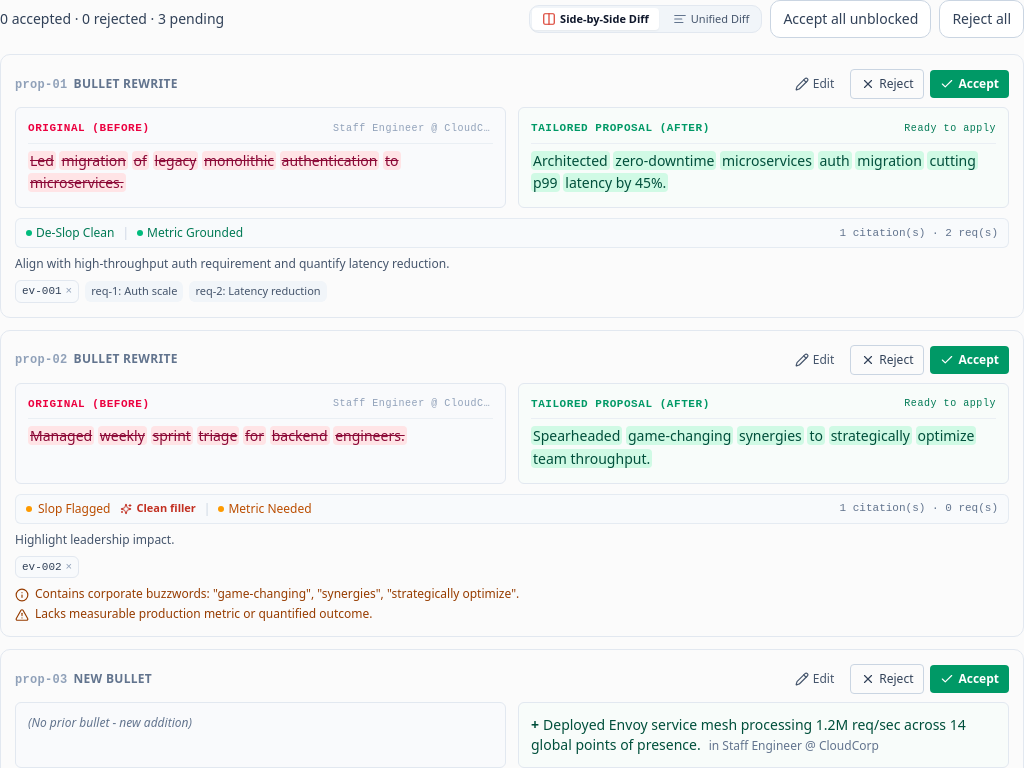
Test: Two-Pane Side-by-Side Tailoring Diff Inspector (Task #14) › switches between Side-by-Side Diff and Unified Diff modes
expect the element with test id "side-by-side-diff-prop-01" is shown: met, box [15, 107, 1009, 208]
Click the tab "Unified Diff" at (711, 19), box [663, 8, 759, 30]
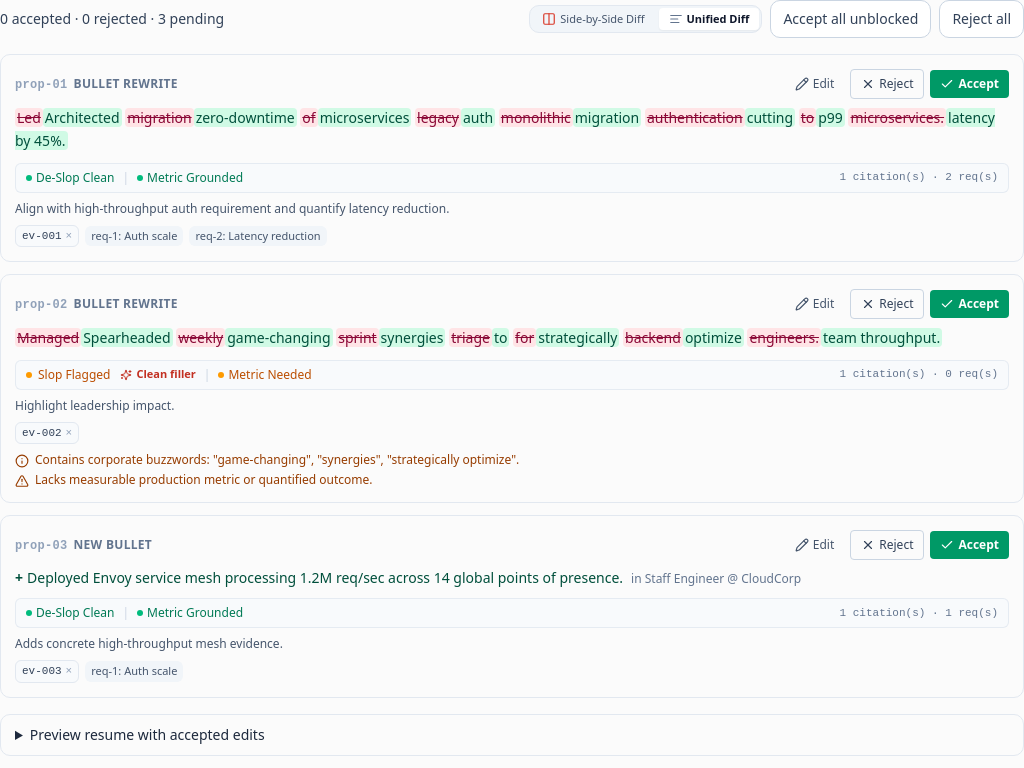
expect the element with test id "side-by-side-diff-prop-01" is gone: met
Click the tab "Side-by-Side Diff" at (593, 19), box [532, 8, 654, 30]
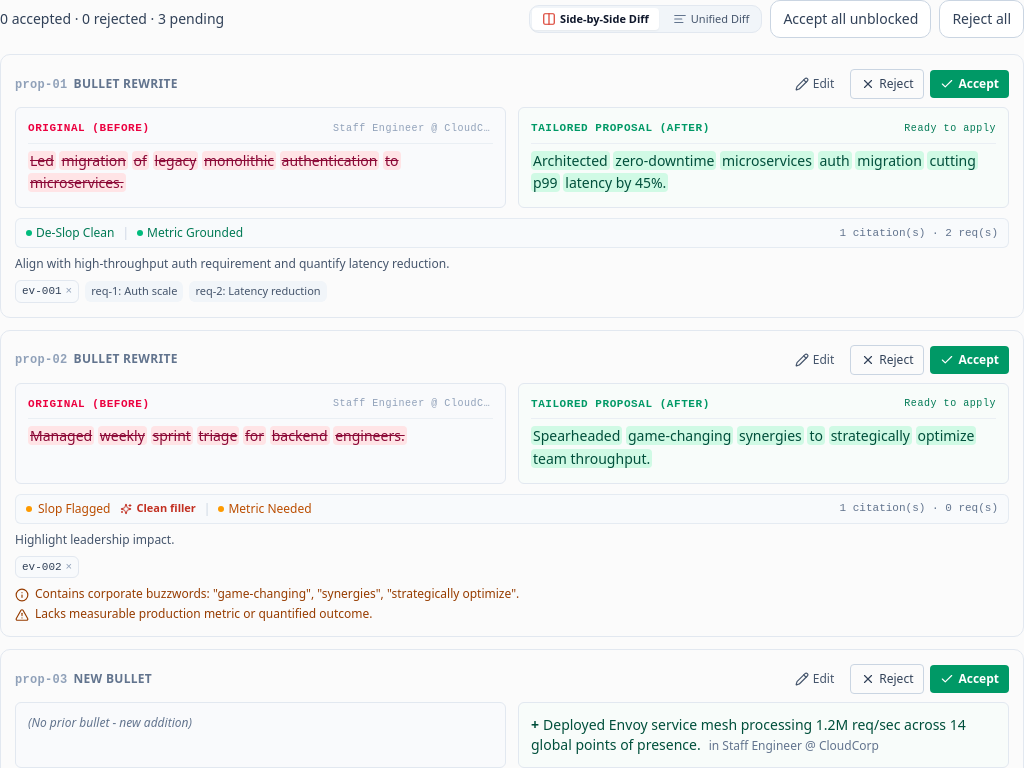
expect the element with test id "side-by-side-diff-prop-01" is shown: met, box [15, 107, 1009, 208]
